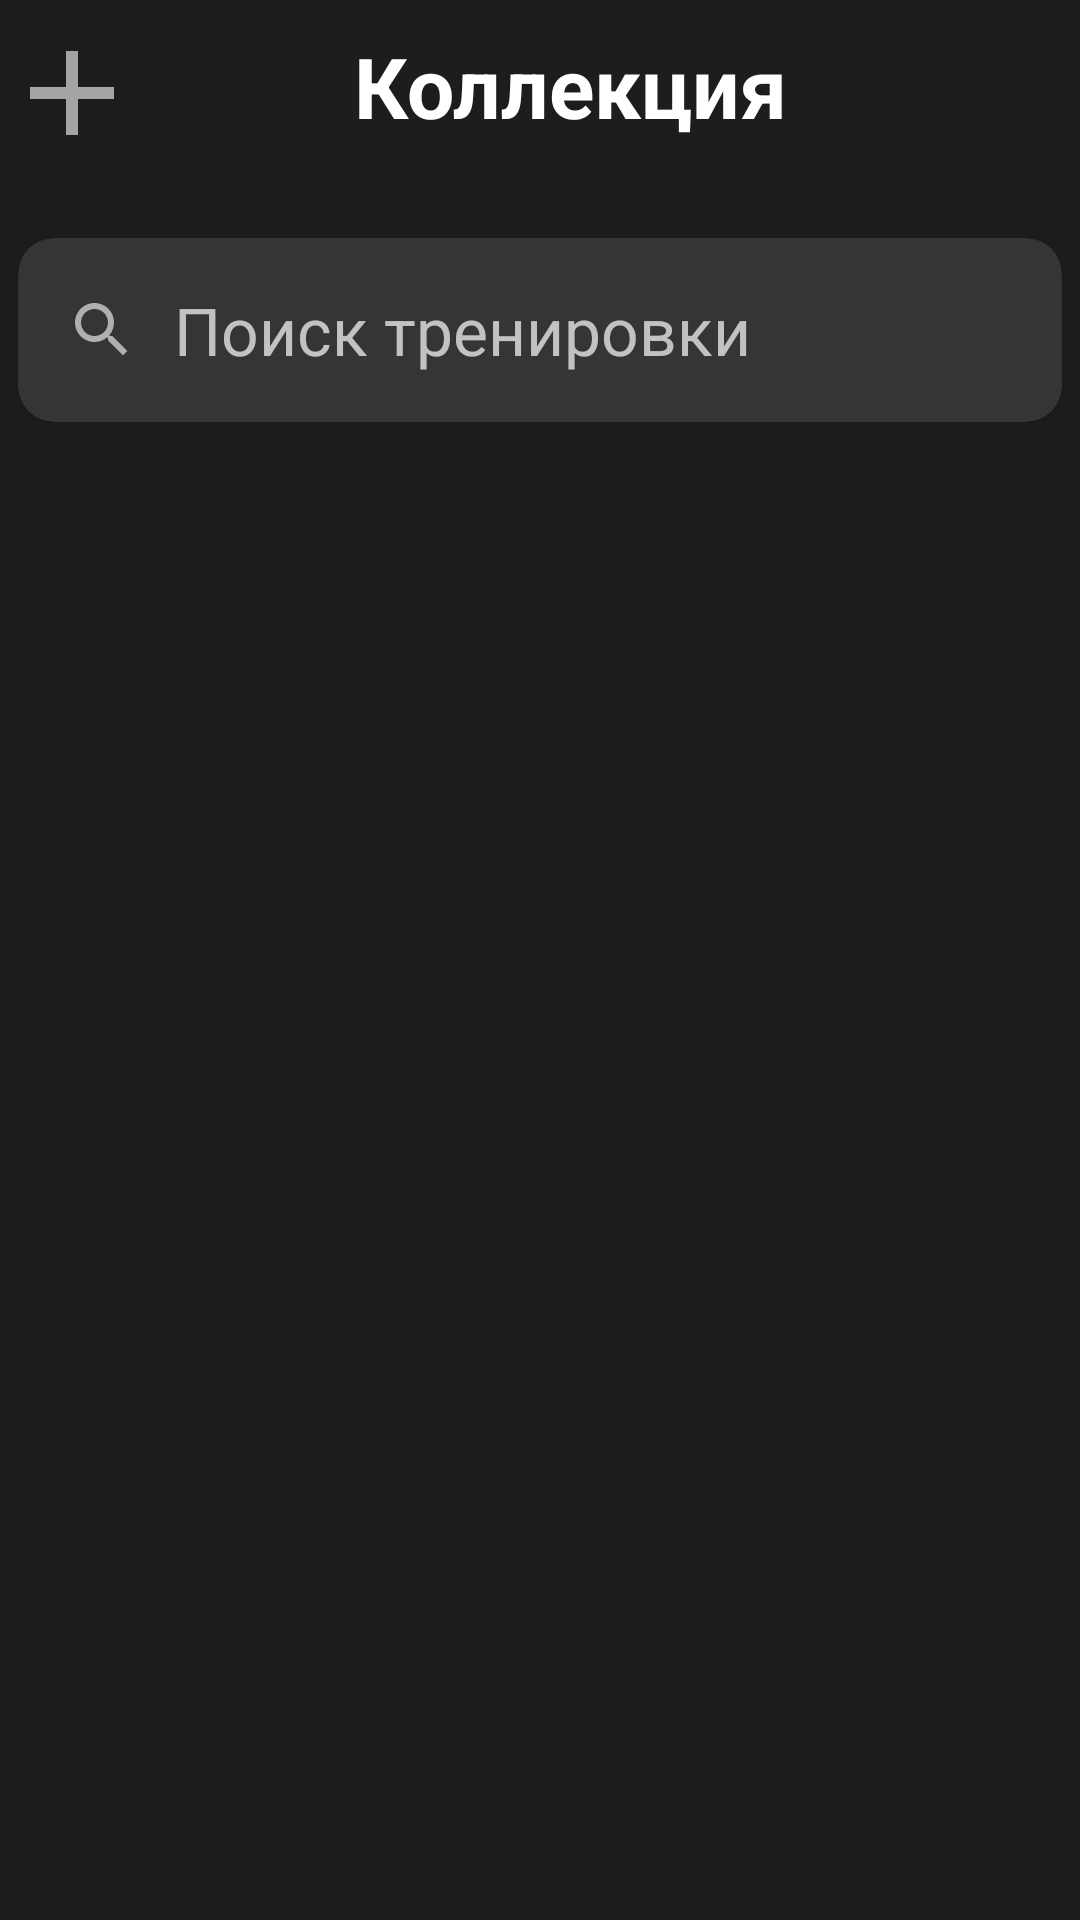

Screen size 1080 × 1920. Icon name, then its box in pixels as BBox(x1, y1, x2, y2):
add exercises: BBox(30, 51, 114, 135)
search: BBox(75, 303, 127, 355)
